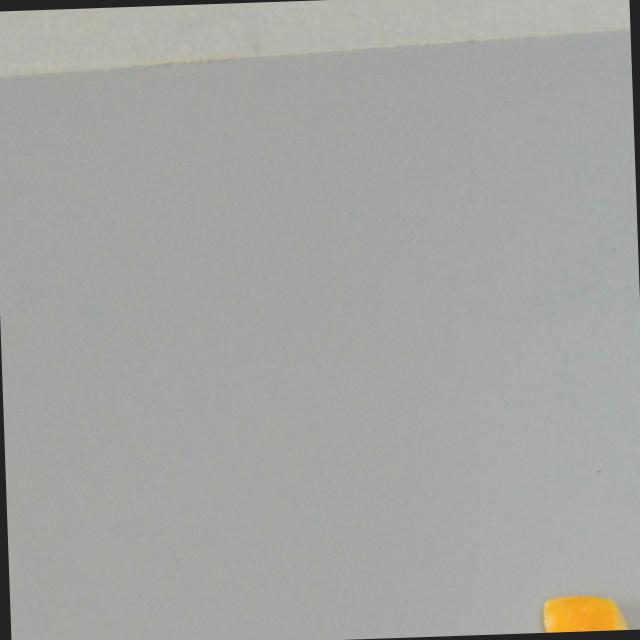no_canjicado: (542, 593, 639, 632)
